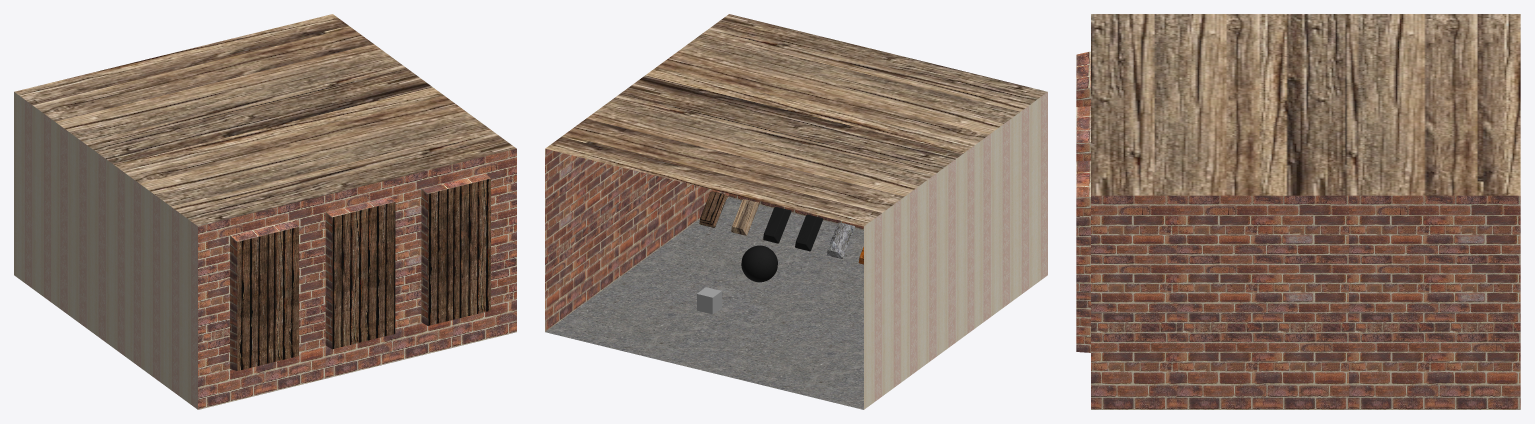
The model's file is pblScene_03_binary2.fbx.
The picture shows the model from 3 angles, left to right: view 1: azimuth 30°, elevation 25°; view 2: azimuth 150°, elevation 25°; view 3: azimuth 270°, elevation 25°; orthographic projection. The views are drawn at different scales.
Parts seen in each view (by area): view 1: polySurface6; view 2: polySurface6, pCube1; view 3: polySurface6.
Boxes of the visible parts, x1,y1,x2,y2 form: polySurface6: (14, 14, 516, 409); polySurface6: (545, 14, 1047, 409); pCube1: (697, 287, 721, 314); polySurface6: (1076, 14, 1520, 409).
Size of the model in its own units: 20 by 11 by 20.68.
